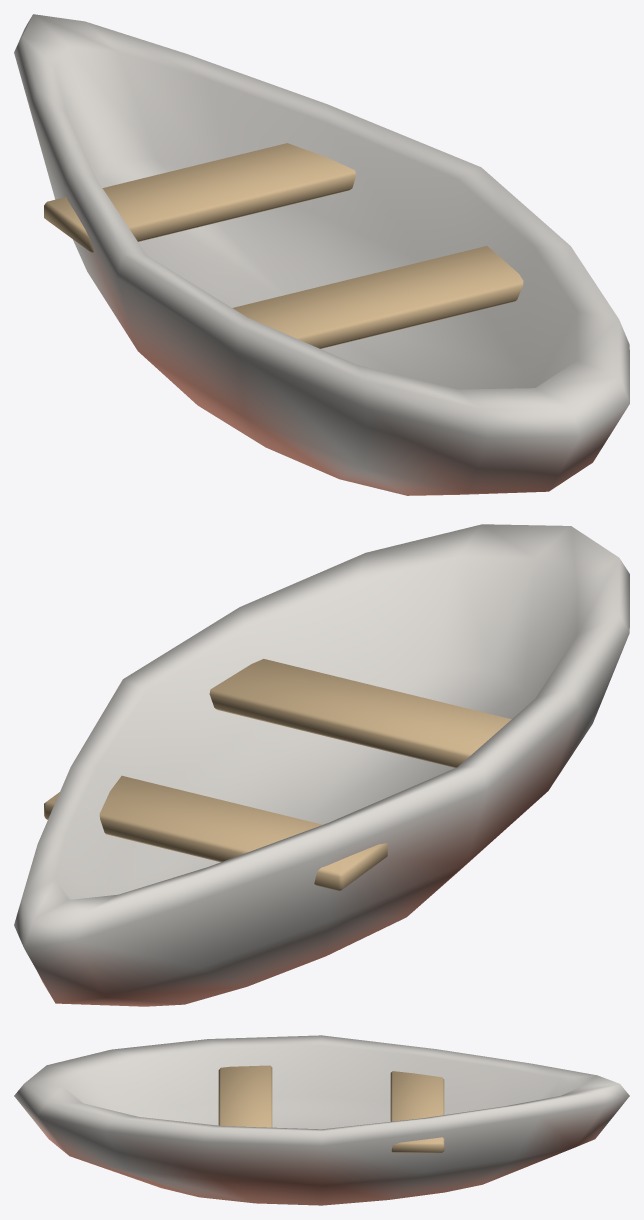
Rendered from rowboat.glb.
The picture shows the model from 3 angles, top to bottom: view 1: azimuth 30°, elevation 25°; view 2: azimuth 150°, elevation 25°; view 3: azimuth 270°, elevation 25°; orthographic projection. The views are drawn at different scales.
Parts seen in each view (by area): view 1: Rowboat_Hull, Rowboat_Seats; view 2: Rowboat_Hull, Rowboat_Seats; view 3: Rowboat_Hull, Rowboat_Seats.
Part boxes in pixels (<box>): Rowboat_Hull: <box>14,14,629,495</box>; Rowboat_Seats: <box>44,143,523,348</box>; Rowboat_Hull: <box>14,524,629,1006</box>; Rowboat_Seats: <box>44,659,511,891</box>; Rowboat_Hull: <box>14,1035,629,1205</box>; Rowboat_Seats: <box>218,1065,444,1152</box>.
Bounding box in the file's own units: 1.24 × 0.57 × 3.22.
